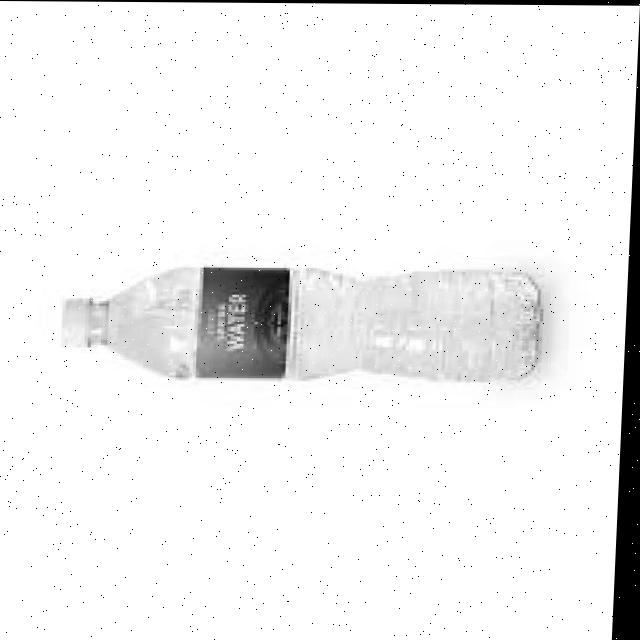bottle: (46, 215, 566, 408)
